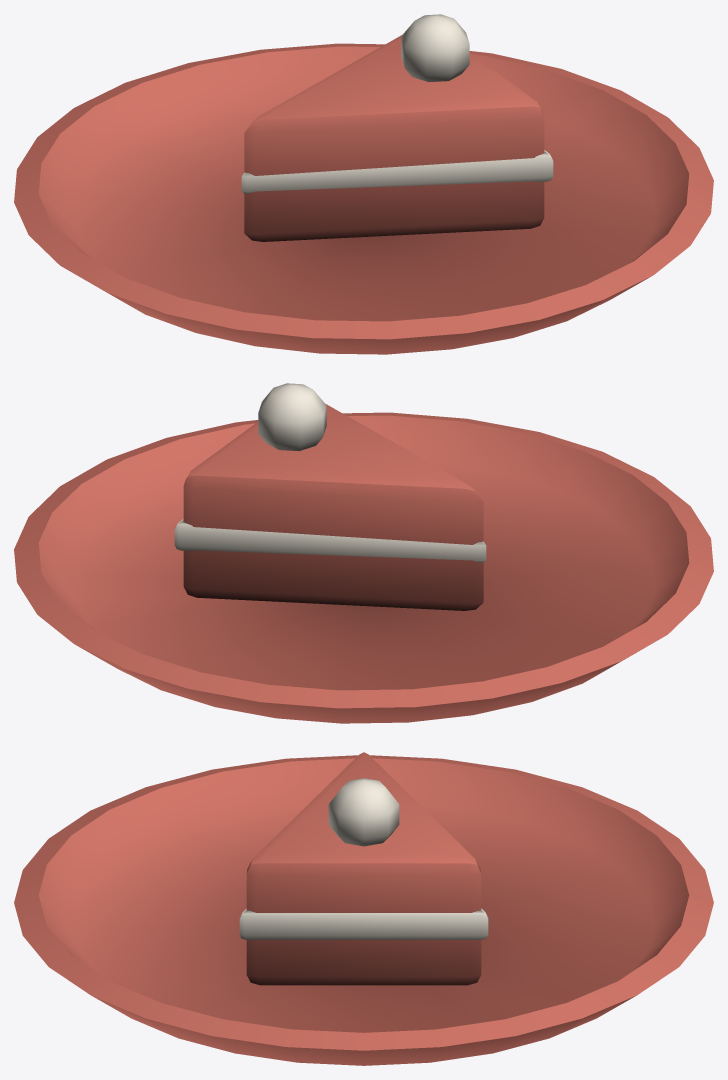
Rendered from dish_sweet.glb.
The picture shows the model from 3 angles, top to bottom: view 1: azimuth 30°, elevation 25°; view 2: azimuth 150°, elevation 25°; view 3: azimuth 270°, elevation 25°; orthographic projection.
Parts seen in each view (by area): view 1: PART; view 2: PART; view 3: PART.
Boxes of the visible parts, x1,y1,x2,y2 form: PART: (14,14,713,354); PART: (14,383,713,723); PART: (14,752,713,1065).
Size of the model in its own units: 0.17 by 0.062 by 0.17.
